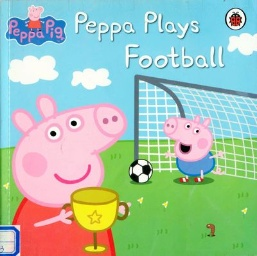Peppa: (7, 93, 127, 256)
